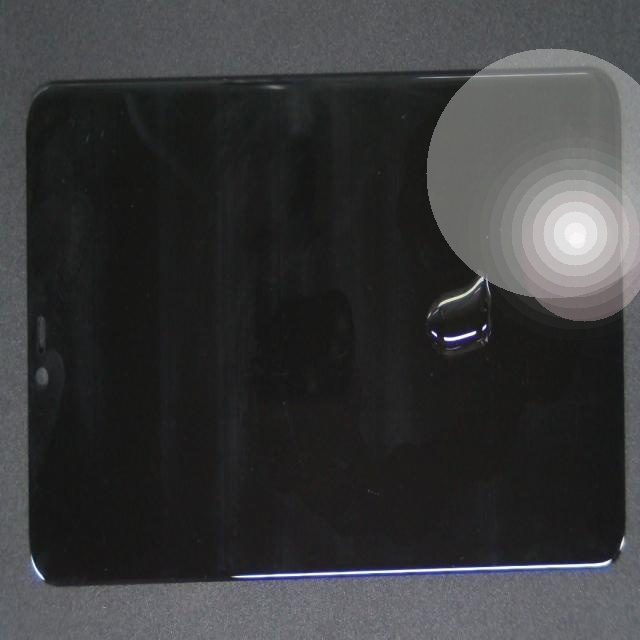oil: (219, 184, 640, 520)
